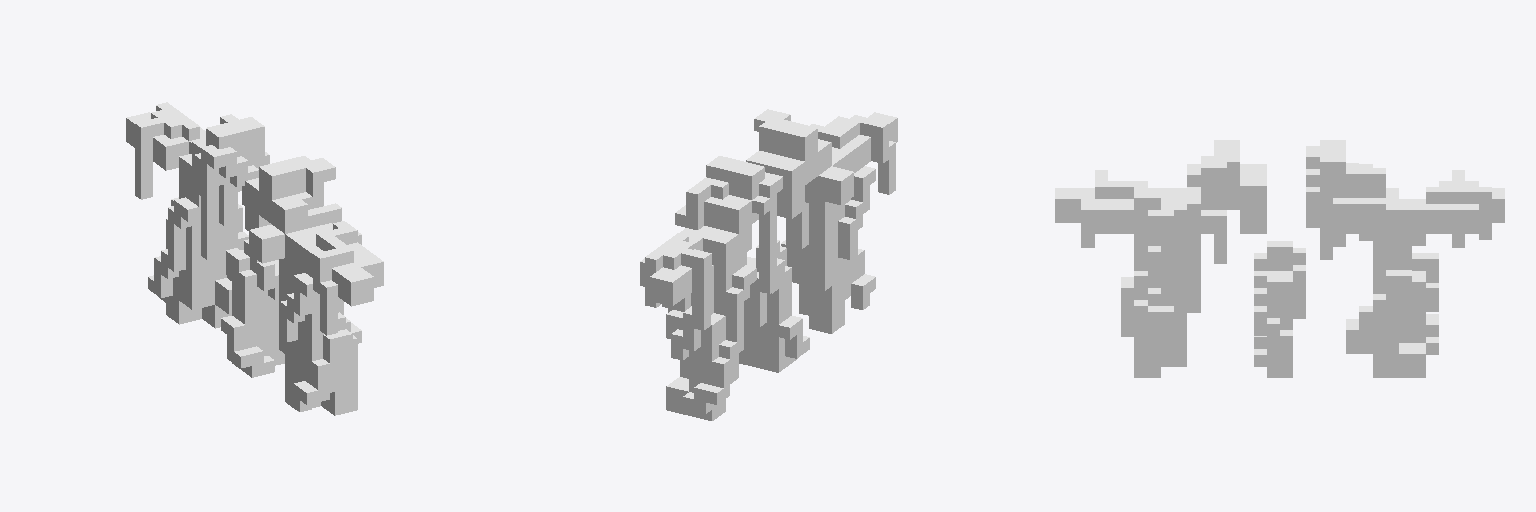
Rendered from arch-left.obj.
3 renders of one model, left to right at view 1: azimuth 30°, elevation 25°; view 2: azimuth 150°, elevation 25°; view 3: azimuth 270°, elevation 25°, orthographic.
Visible parts, largest first — view 1: object 1; view 2: object 1; view 3: object 1.
Part boxes in pixels (left/top/right/bottom): object 1: left=126, top=102, right=383, bottom=415; object 1: left=640, top=109, right=897, bottom=420; object 1: left=1055, top=140, right=1504, bottom=377.
Bounding box in the file's own units: 0.7 × 1.8 × 3.4.